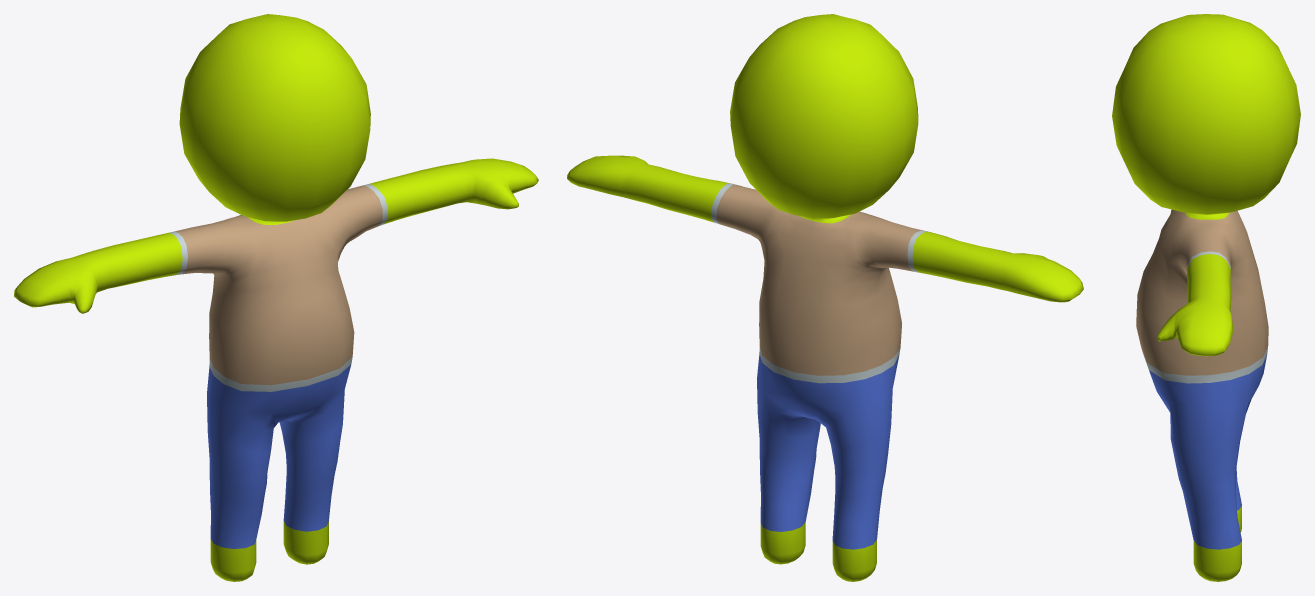
Rendered from human.fbx.
3 renders of one model, left to right at view 1: azimuth 30°, elevation 25°; view 2: azimuth 150°, elevation 25°; view 3: azimuth 270°, elevation 25°, orthographic.
Visible parts, largest first — view 1: human2; view 2: human2; view 3: human2.
Boxes of the visible parts, bbox=[...] form: human2: bbox=[14, 14, 538, 581]; human2: bbox=[567, 14, 1083, 581]; human2: bbox=[1112, 14, 1300, 581].
Size of the model in its own units: 0.3346 by 0.3408 by 0.1083.
